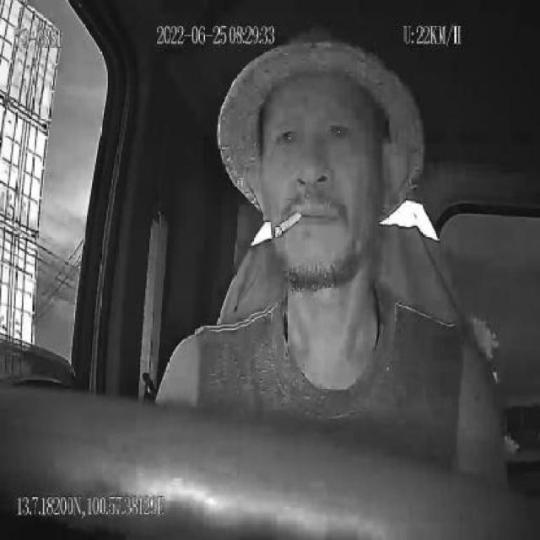smoking: (274, 209, 302, 239)
